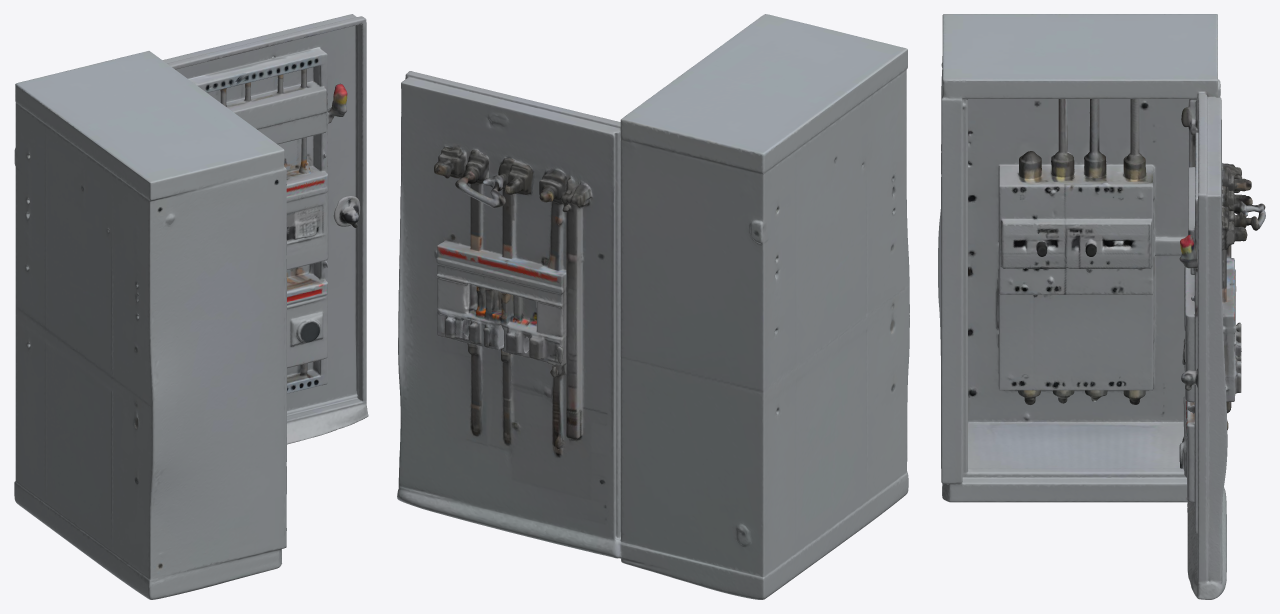
File: Electrical cabinet.fbx
3 views of the same model, side by side, from view 1: azimuth 30°, elevation 25°; view 2: azimuth 150°, elevation 25°; view 3: azimuth 270°, elevation 25° (orthographic). The views are drawn at different scales.
Visible parts, largest first — view 1: tripo_node_57af70f3; view 2: tripo_node_57af70f3; view 3: tripo_node_57af70f3.
Part boxes in pixels (x1,y1,x2,y2): tripo_node_57af70f3: (14, 14, 368, 599); tripo_node_57af70f3: (397, 14, 909, 599); tripo_node_57af70f3: (938, 14, 1265, 599).
Size of the model in its own units: 85.2 by 100 by 69.09.
1 material, 1 textured.
